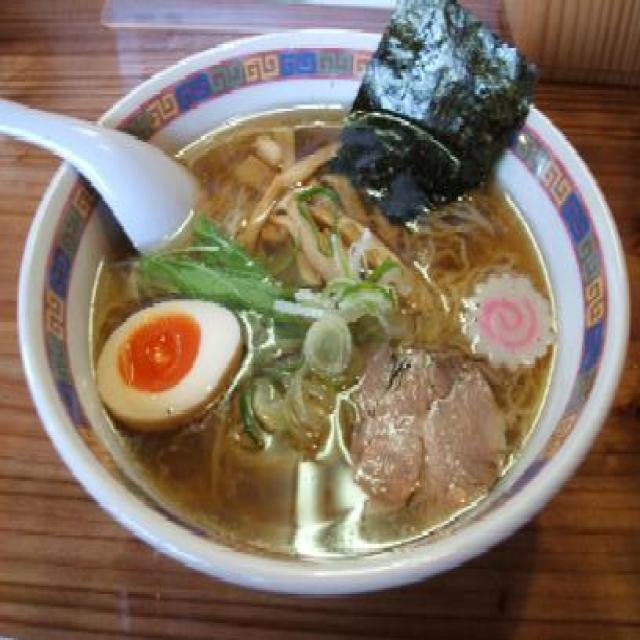面条主食: (11, 6, 629, 598)
